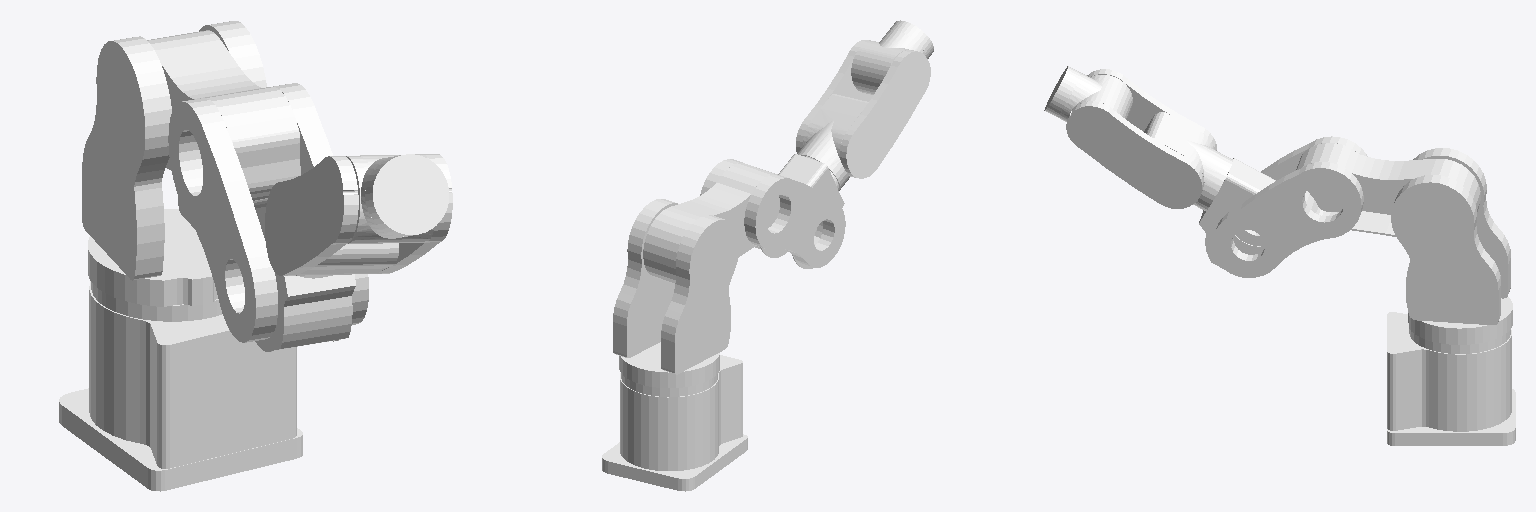
robot.urdf — exmaple_robot_model:
<?xml version="1.0" encoding="utf-8"?>
<!-- This URDF was automatically created by SolidWorks to URDF Exporter! Originally created by [author] ([email redacted]) 
     Commit Version: 1.6.0-4-g7f85cfe  Build Version: 1.6.7995.38578
     For more information, please see http://wiki.ros.org/sw_urdf_exporter -->
<robot
  name="exmaple_robot_model">
  <link
    name="robot_base">
    <inertial>
      <origin
        xyz="0.00022169 -0.00028617 0.080329"
        rpy="0 0 0" />
      <mass
        value="4.4563" />
      <inertia
        ixx="0.023017"
        ixy="6.6589E-05"
        ixz="-7.0844E-06"
        iyy="0.018672"
        iyz="-0.00020968"
        izz="0.020191" />
    </inertial>
    <visual>
      <origin
        xyz="0 0 0"
        rpy="0 0 0" />
      <geometry>
        <mesh
          filename="package://exmaple_robot_model/meshes/base.STL" />
      </geometry>
      <material
        name="">
        <color
          rgba="1 1 1 1" />
      </material>
    </visual>
    <collision>
      <origin
        xyz="0 0 0"
        rpy="0 0 0" />
      <geometry>
        <mesh
          filename="package://exmaple_robot_model/meshes/base.STL" />
      </geometry>
    </collision>
  </link>
  <link
    name="r1">
    <inertial>
      <origin
        xyz="-0.0034411 -0.011433 0.077323"
        rpy="0 0 0" />
      <mass
        value="2.2514" />
      <inertia
        ixx="0.010774"
        ixy="-0.0003777"
        ixz="0.00021921"
        iyy="0.0083649"
        iyz="0.001428"
        izz="0.0046817" />
    </inertial>
    <visual>
      <origin
        xyz="0 0 0"
        rpy="0 0 0" />
      <geometry>
        <mesh
          filename="package://exmaple_robot_model/meshes/r1.STL" />
      </geometry>
      <material
        name="">
        <color
          rgba="1 1 1 1" />
      </material>
    </visual>
    <collision>
      <origin
        xyz="0 0 0"
        rpy="0 0 0" />
      <geometry>
        <mesh
          filename="package://exmaple_robot_model/meshes/r1.STL" />
      </geometry>
    </collision>
  </link>
  <joint
    name="r1"
    type="revolute">
    <origin
      xyz="0 0.017617 0.198"
      rpy="0 0 0" />
    <parent
      link="robot_base" />
    <child
      link="r1" />
    <axis
      xyz="0 0 -1" />
    <limit
      lower="-3.14"
      upper="3.14"
      effort="0"
      velocity="0.1" />
  </joint>
  <link
    name="r2">
    <inertial>
      <origin
        xyz="0.082259 -0.0072267 0.05219"
        rpy="0 0 0" />
      <mass
        value="0.22817" />
      <inertia
        ixx="0.00051338"
        ixy="0.00014117"
        ixz="-3.4423E-06"
        iyy="0.0018843"
        iyz="9.5466E-07"
        izz="0.0021562" />
    </inertial>
    <visual>
      <origin
        xyz="0 0 0"
        rpy="0 0 0" />
      <geometry>
        <mesh
          filename="package://exmaple_robot_model/meshes/r2.STL" />
      </geometry>
      <material
        name="">
        <color
          rgba="1 1 1 1" />
      </material>
    </visual>
    <collision>
      <origin
        xyz="0 0 0"
        rpy="0 0 0" />
      <geometry>
        <mesh
          filename="package://exmaple_robot_model/meshes/r2.STL" />
      </geometry>
    </collision>
  </link>
  <joint
    name="j2"
    type="revolute">
    <origin
      xyz="-0.070289 -0.0229 0.171"
      rpy="-1.5708 0 -1.7231" />
    <parent
      link="r1" />
    <child
      link="r2" />
    <axis
      xyz="0 0 -1" />
    <limit
      lower="-3.14"
      upper="3.14"
      effort="0"
      velocity="0.1" />
  </joint>
  <link
    name="r3">
    <inertial>
      <origin
        xyz="0.058716 0.035899 0.05825"
        rpy="0 0 0" />
      <mass
        value="0.93769" />
      <inertia
        ixx="0.0021447"
        ixy="-0.0015193"
        ixz="-3.09E-18"
        iyy="0.0033451"
        iyz="-2.5765E-18"
        izz="0.0054072" />
    </inertial>
    <visual>
      <origin
        xyz="0 0 0"
        rpy="0 0 0" />
      <geometry>
        <mesh
          filename="package://exmaple_robot_model/meshes/r3.STL" />
      </geometry>
      <material
        name="">
        <color
          rgba="1 1 1 1" />
      </material>
    </visual>
    <collision>
      <origin
        xyz="0 0 0"
        rpy="0 0 0" />
      <geometry>
        <mesh
          filename="package://exmaple_robot_model/meshes/r3.STL" />
      </geometry>
    </collision>
  </link>
  <joint
    name="j3"
    type="revolute">
    <origin
      xyz="0.17132 -0.014791 0.0055"
      rpy="0 0 0" />
    <parent
      link="r2" />
    <child
      link="r3" />
    <axis
      xyz="0 0 1" />
    <limit
      lower="-3.14"
      upper="3.14"
      effort="0"
      velocity="0" />
  </joint>
  <link
    name="r4">
    <inertial>
      <origin
        xyz="0.0265274515322492 -0.0284825849452257 0.0582476325711433"
        rpy="0 0 0" />
      <mass
        value="0.0747165876109567" />
      <inertia
        ixx="0.000239910336622906"
        ixy="-1.94921937076665E-05"
        ixz="-1.52421239463864E-09"
        iyy="0.000169514108857499"
        iyz="-8.30329263950967E-09"
        izz="0.000286517576861869" />
    </inertial>
    <visual>
      <origin
        xyz="0 0 0"
        rpy="0 0 0" />
      <geometry>
        <mesh
          filename="package://exmaple_robot_model/meshes/r4.STL" />
      </geometry>
      <material
        name="">
        <color
          rgba="1 1 1 1" />
      </material>
    </visual>
    <collision>
      <origin
        xyz="0 0 0"
        rpy="0 0 0" />
      <geometry>
        <mesh
          filename="package://exmaple_robot_model/meshes/r4.STL" />
      </geometry>
    </collision>
  </link>
  <joint
    name="j4"
    type="revolute">
    <origin
      xyz="0.11682 0.079683 0"
      rpy="0 0 0" />
    <parent
      link="r3" />
    <child
      link="r4" />
    <axis
      xyz="0 0 1" />
    <limit
      lower="-3.14"
      upper="3.14"
      effort="0"
      velocity="0" />
  </joint>
  <link
    name="r7">
    <inertial>
      <origin
        xyz="-0.000934941530290112 0.000461701815751586 0.0778843256649208"
        rpy="0 0 0" />
      <mass
        value="0.0980668668025426" />
      <inertia
        ixx="0.000272206456158683"
        ixy="2.56679630671344E-06"
        ixz="4.75133925140486E-06"
        iyy="0.000276169042376363"
        iyz="-2.35098077285761E-06"
        izz="0.000196073350290787" />
    </inertial>
    <visual>
      <origin
        xyz="0 0 0"
        rpy="0 0 0" />
      <geometry>
        <mesh
          filename="package://exmaple_robot_model/meshes/r7.STL" />
      </geometry>
      <material
        name="">
        <color
          rgba="1 1 1 1" />
      </material>
    </visual>
    <collision>
      <origin
        xyz="0 0 0"
        rpy="0 0 0" />
      <geometry>
        <mesh
          filename="package://exmaple_robot_model/meshes/r7.STL" />
      </geometry>
    </collision>
  </link>
  <joint
    name="j7"
    type="revolute">
    <origin
      xyz="0.053525 -0.071016 0.05825"
      rpy="1.5708 -0.32444 1.0968" />
    <parent
      link="r4" />
    <child
      link="r7" />
    <axis
      xyz="0 0 -1" />
    <limit
      lower="-3.14"
      upper="3.14"
      effort="0"
      velocity="0" />
  </joint>
  <link
    name="r5">
    <inertial>
      <origin
        xyz="0.0621816041243616 0.0381812779709092 0.0552499999999984"
        rpy="0 0 0" />
      <mass
        value="0.568071054532122" />
      <inertia
        ixx="0.000931848672002571"
        ixy="-0.000925927961725504"
        ixz="-1.00559751498031E-17"
        iyy="0.00177392072389187"
        iyz="1.30375311241382E-17"
        izz="0.00268446673134948" />
    </inertial>
    <visual>
      <origin
        xyz="0 0 0"
        rpy="0 0 0" />
      <geometry>
        <mesh
          filename="package://exmaple_robot_model/meshes/r5.STL" />
      </geometry>
      <material
        name="">
        <color
          rgba="1 1 1 1" />
      </material>
    </visual>
    <collision>
      <origin
        xyz="0 0 0"
        rpy="0 0 0" />
      <geometry>
        <mesh
          filename="package://exmaple_robot_model/meshes/r5.STL" />
      </geometry>
    </collision>
  </link>
  <joint
    name="j5"
    type="revolute">
    <origin
      xyz="0.024908 0.04932 0.066521"
      rpy="1.5708 -1.119 -0.4585" />
    <parent
      link="r7" />
    <child
      link="r5" />
    <axis
      xyz="0 0 -1" />
    <limit
      lower="-3.14"
      upper="3.14"
      effort="0"
      velocity="0" />
  </joint>
  <link
    name="r6">
    <inertial>
      <origin
        xyz="0.00150705127878992 0.00076752718745321 0.0544935023425193"
        rpy="0 0 0" />
      <mass
        value="0.0629104379086854" />
      <inertia
        ixx="0.000104917016287193"
        ixy="-3.99449837078143E-07"
        ixz="2.48074610039235E-08"
        iyy="0.000105499715307443"
        iyz="1.55011515889934E-08"
        izz="0.000100890591773057" />
    </inertial>
    <visual>
      <origin
        xyz="0 0 0"
        rpy="0 0 0" />
      <geometry>
        <mesh
          filename="package://exmaple_robot_model/meshes/r6.STL" />
      </geometry>
      <material
        name="">
        <color
          rgba="1 1 1 1" />
      </material>
    </visual>
    <collision>
      <origin
        xyz="0 0 0"
        rpy="0 0 0" />
      <geometry>
        <mesh
          filename="package://exmaple_robot_model/meshes/r6.STL" />
      </geometry>
    </collision>
  </link>
  <joint
    name="j6"
    type="revolute">
    <origin
      xyz="0.12692 0.081805 0"
      rpy="0 0 -0.025816" />
    <parent
      link="r5" />
    <child
      link="r6" />
    <axis
      xyz="0 0 -1" />
    <limit
      lower="-3.14"
      upper="3.14"
      effort="0"
      velocity="0" />
  </joint>
  <link
    name="end">
    <inertial>
      <origin
        xyz="-1.66533453693773E-16 1.11022302462516E-16 0.0110000000000001"
        rpy="0 0 0" />
      <mass
        value="0.10512397337438" />
      <inertia
        ixx="4.42133911350252E-05"
        ixy="-7.6232965252887E-21"
        ixz="-1.18796370852416E-19"
        iyy="4.42133911350252E-05"
        iyz="4.44692297308508E-20"
        izz="7.99467817511838E-05" />
    </inertial>
    <visual>
      <origin
        xyz="0 0 0"
        rpy="0 0 0" />
      <geometry>
        <mesh
          filename="package://exmaple_robot_model/meshes/end.STL" />
      </geometry>
      <material
        name="">
        <color
          rgba="1 1 1 1" />
      </material>
    </visual>
    <collision>
      <origin
        xyz="0 0 0"
        rpy="0 0 0" />
      <geometry>
        <mesh
          filename="package://exmaple_robot_model/meshes/end.STL" />
      </geometry>
    </collision>
  </link>
  <joint
    name="j8"
    type="fixed">
    <origin
      xyz="0.0686209400707701 0.0349308829519625 0.0542587238405839"
      rpy="1.5707963267949 0.464140960692069 -1.09994197771995" />
    <parent
      link="r6" />
    <child
      link="end" />
    <axis
      xyz="0 0 0" />
  </joint>
</robot>

--- Facts derived from the render (not from the file) ---
The picture shows the robot from 3 angles, left to right: view 1: azimuth 30°, elevation 25°; view 2: azimuth 150°, elevation 25°; view 3: azimuth 270°, elevation 25°; orthographic projection.
Model exmaple_robot_model with 9 links and 8 joints (7 revolute, 1 fixed), rooted at robot_base, posed all joints at 0.
Links seen in each view (by area): view 1: robot_base, r1, r3, r2, r5, r4, end, r7, r6; view 2: r1, robot_base, r5, r3, r2, r7, r6, r4, end; view 3: r1, robot_base, r3, r5, r2, r7, r4, r6, end.
Boxes of the visible links, x1,y1,x2,y2 form: robot_base: (59, 281, 302, 491); r1: (82, 21, 266, 306); r3: (168, 83, 368, 342); r2: (147, 30, 300, 200); r5: (265, 154, 452, 275); r4: (253, 198, 355, 351); end: (365, 154, 448, 235); r7: (296, 243, 398, 278); r6: (346, 154, 434, 243); r1: (613, 199, 739, 387); robot_base: (602, 355, 747, 491); r5: (796, 40, 930, 178); r3: (700, 159, 845, 267); r2: (643, 163, 779, 283); r7: (798, 94, 868, 190); r6: (851, 30, 925, 94); r4: (760, 154, 844, 268); end: (889, 20, 933, 58); r1: (1391, 148, 1512, 344); robot_base: (1387, 312, 1515, 445); r3: (1213, 136, 1367, 277); r5: (1066, 69, 1216, 208); r2: (1296, 143, 1480, 236); r7: (1144, 112, 1232, 210); r4: (1199, 158, 1275, 277); r6: (1058, 73, 1132, 121); end: (1044, 66, 1080, 116).
Bounding box of the posed robot: 0.2336 × 0.7247 × 0.5588 m (x, y, z).
Meshes: 9 distinct files referenced, 9 mesh visuals loaded (9 binary STL).